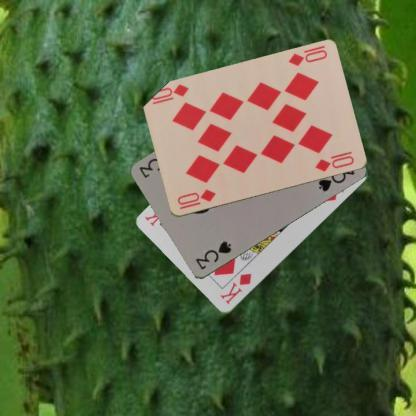10d: (174, 187, 218, 211), (286, 48, 328, 68)
3s: (192, 238, 233, 272)
Kd: (217, 271, 253, 306)
